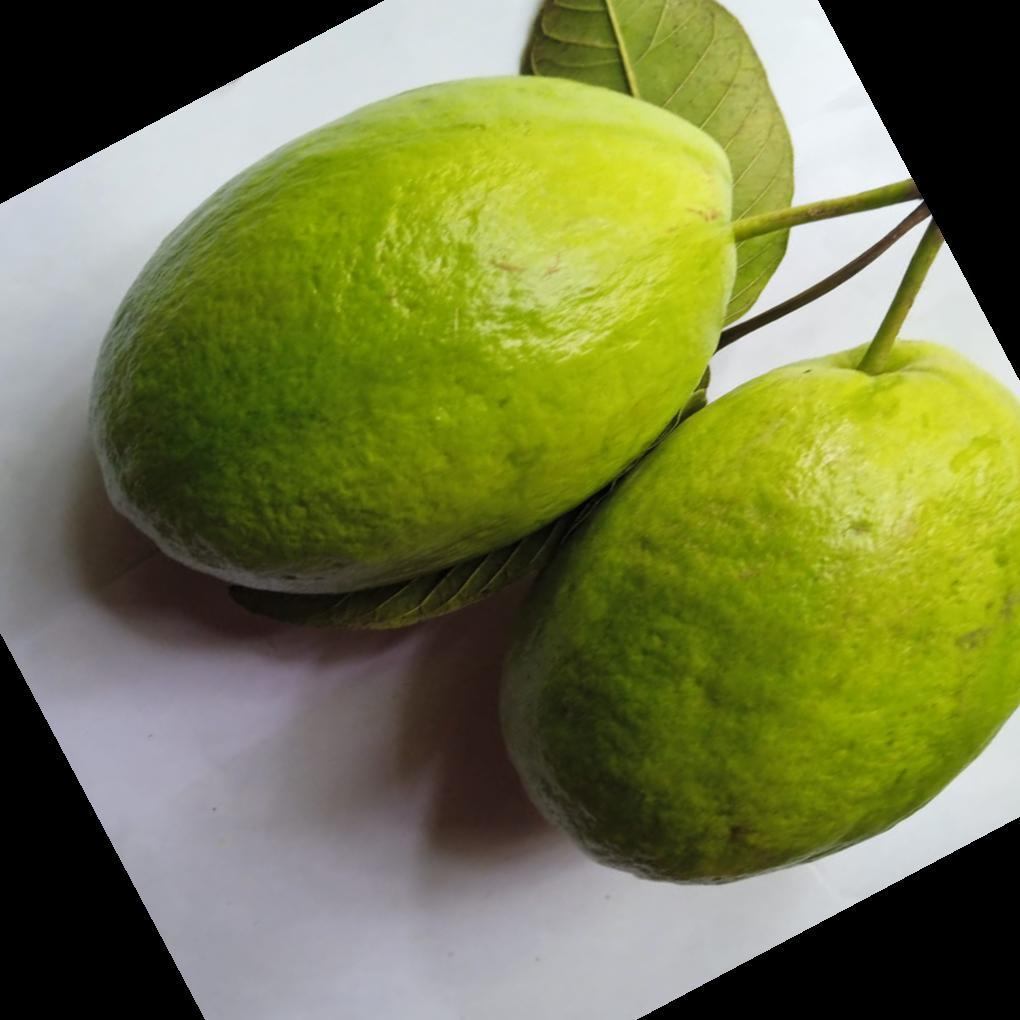FreshGuava: (84, 0, 1020, 890)
